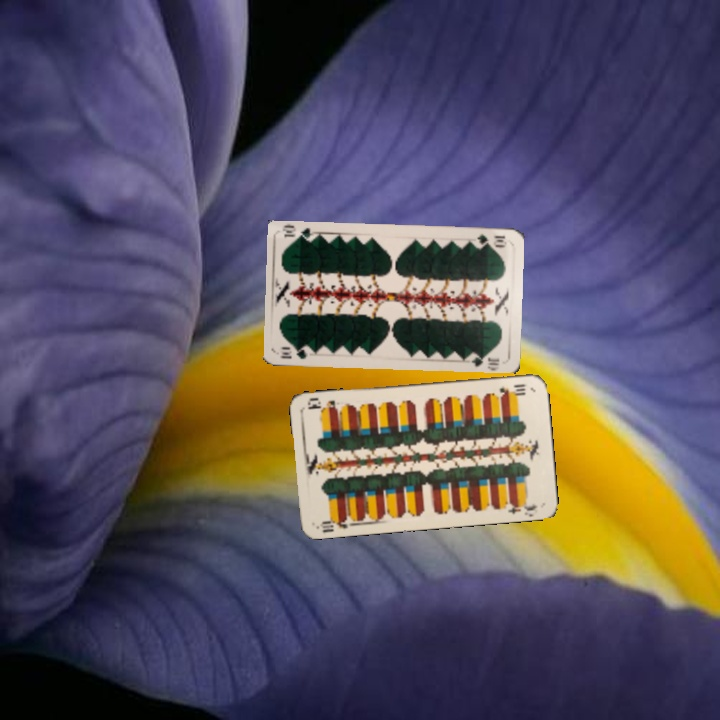E10: (314, 512, 355, 534), (495, 380, 528, 397)
G10: (473, 229, 508, 249), (276, 343, 309, 361)
